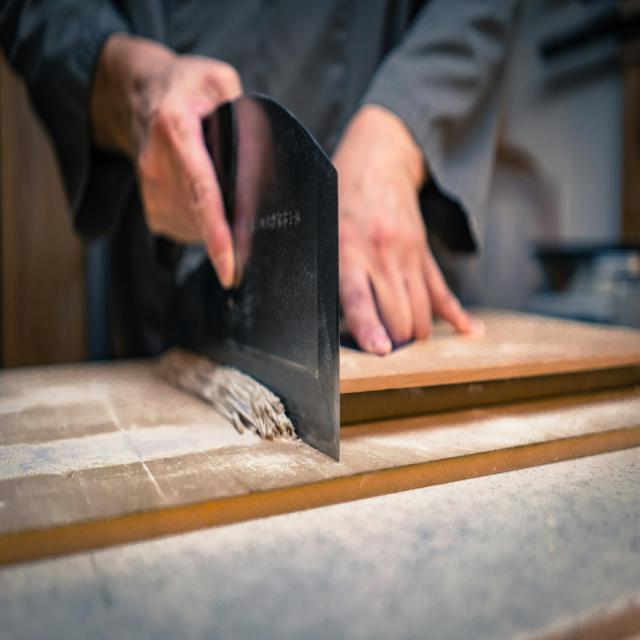knife: (154, 96, 340, 461)
